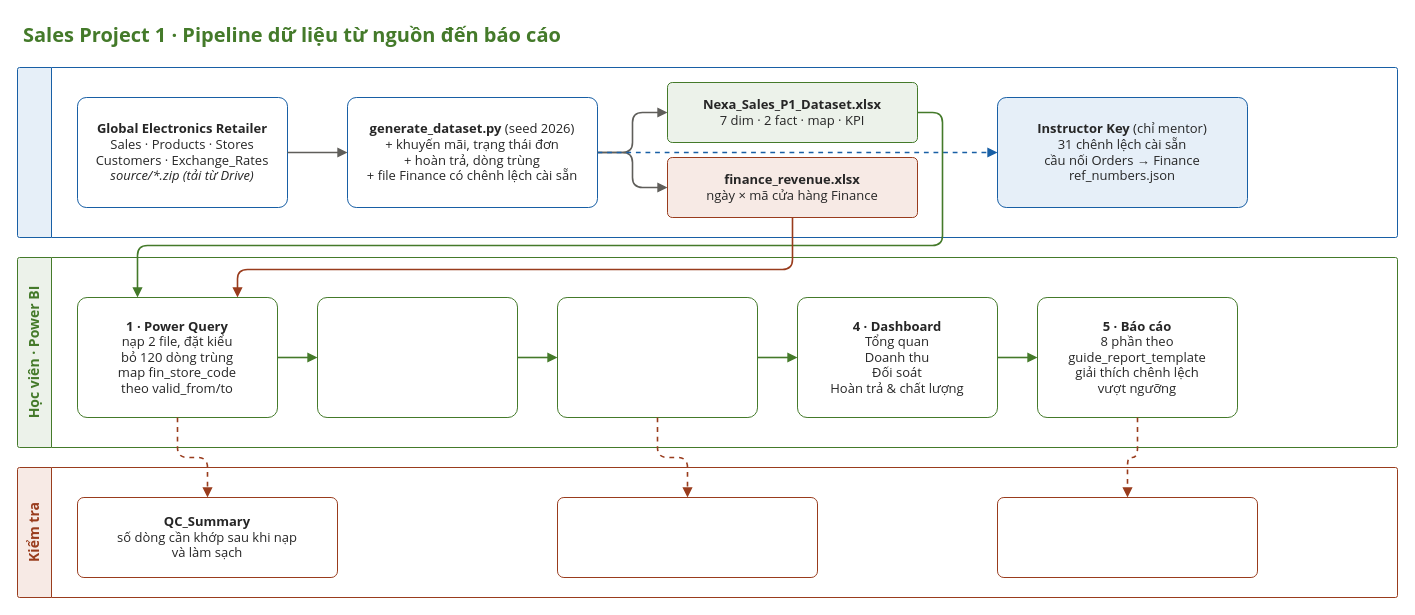
Some shapes in this 1415 by 615 pixel diagram are drawn without their labels. The box of each missing label's shape, as (x1, y1, x2, y2) in pixels:
2 · Mô hình star schema dim_date đánh dấu quan hệ inactive delivery_date: (316, 296, 518, 418)
3 · DAX Gross → Net Sales → Net Revenue Orders, AOV, ASP Δ Finance, cờ ngưỡng: (556, 296, 758, 418)
Chấm điểm rubric 40 · 40 · 20 đối chiếu Instructor Key: (996, 496, 1258, 578)
Mentor chuẩn bị: (16, 66, 1398, 238)
Số đối soát (Guideline Bước 6) KPI tháng 12/2020, LM, SPLY cầu nối năm 2020: (556, 496, 818, 578)
